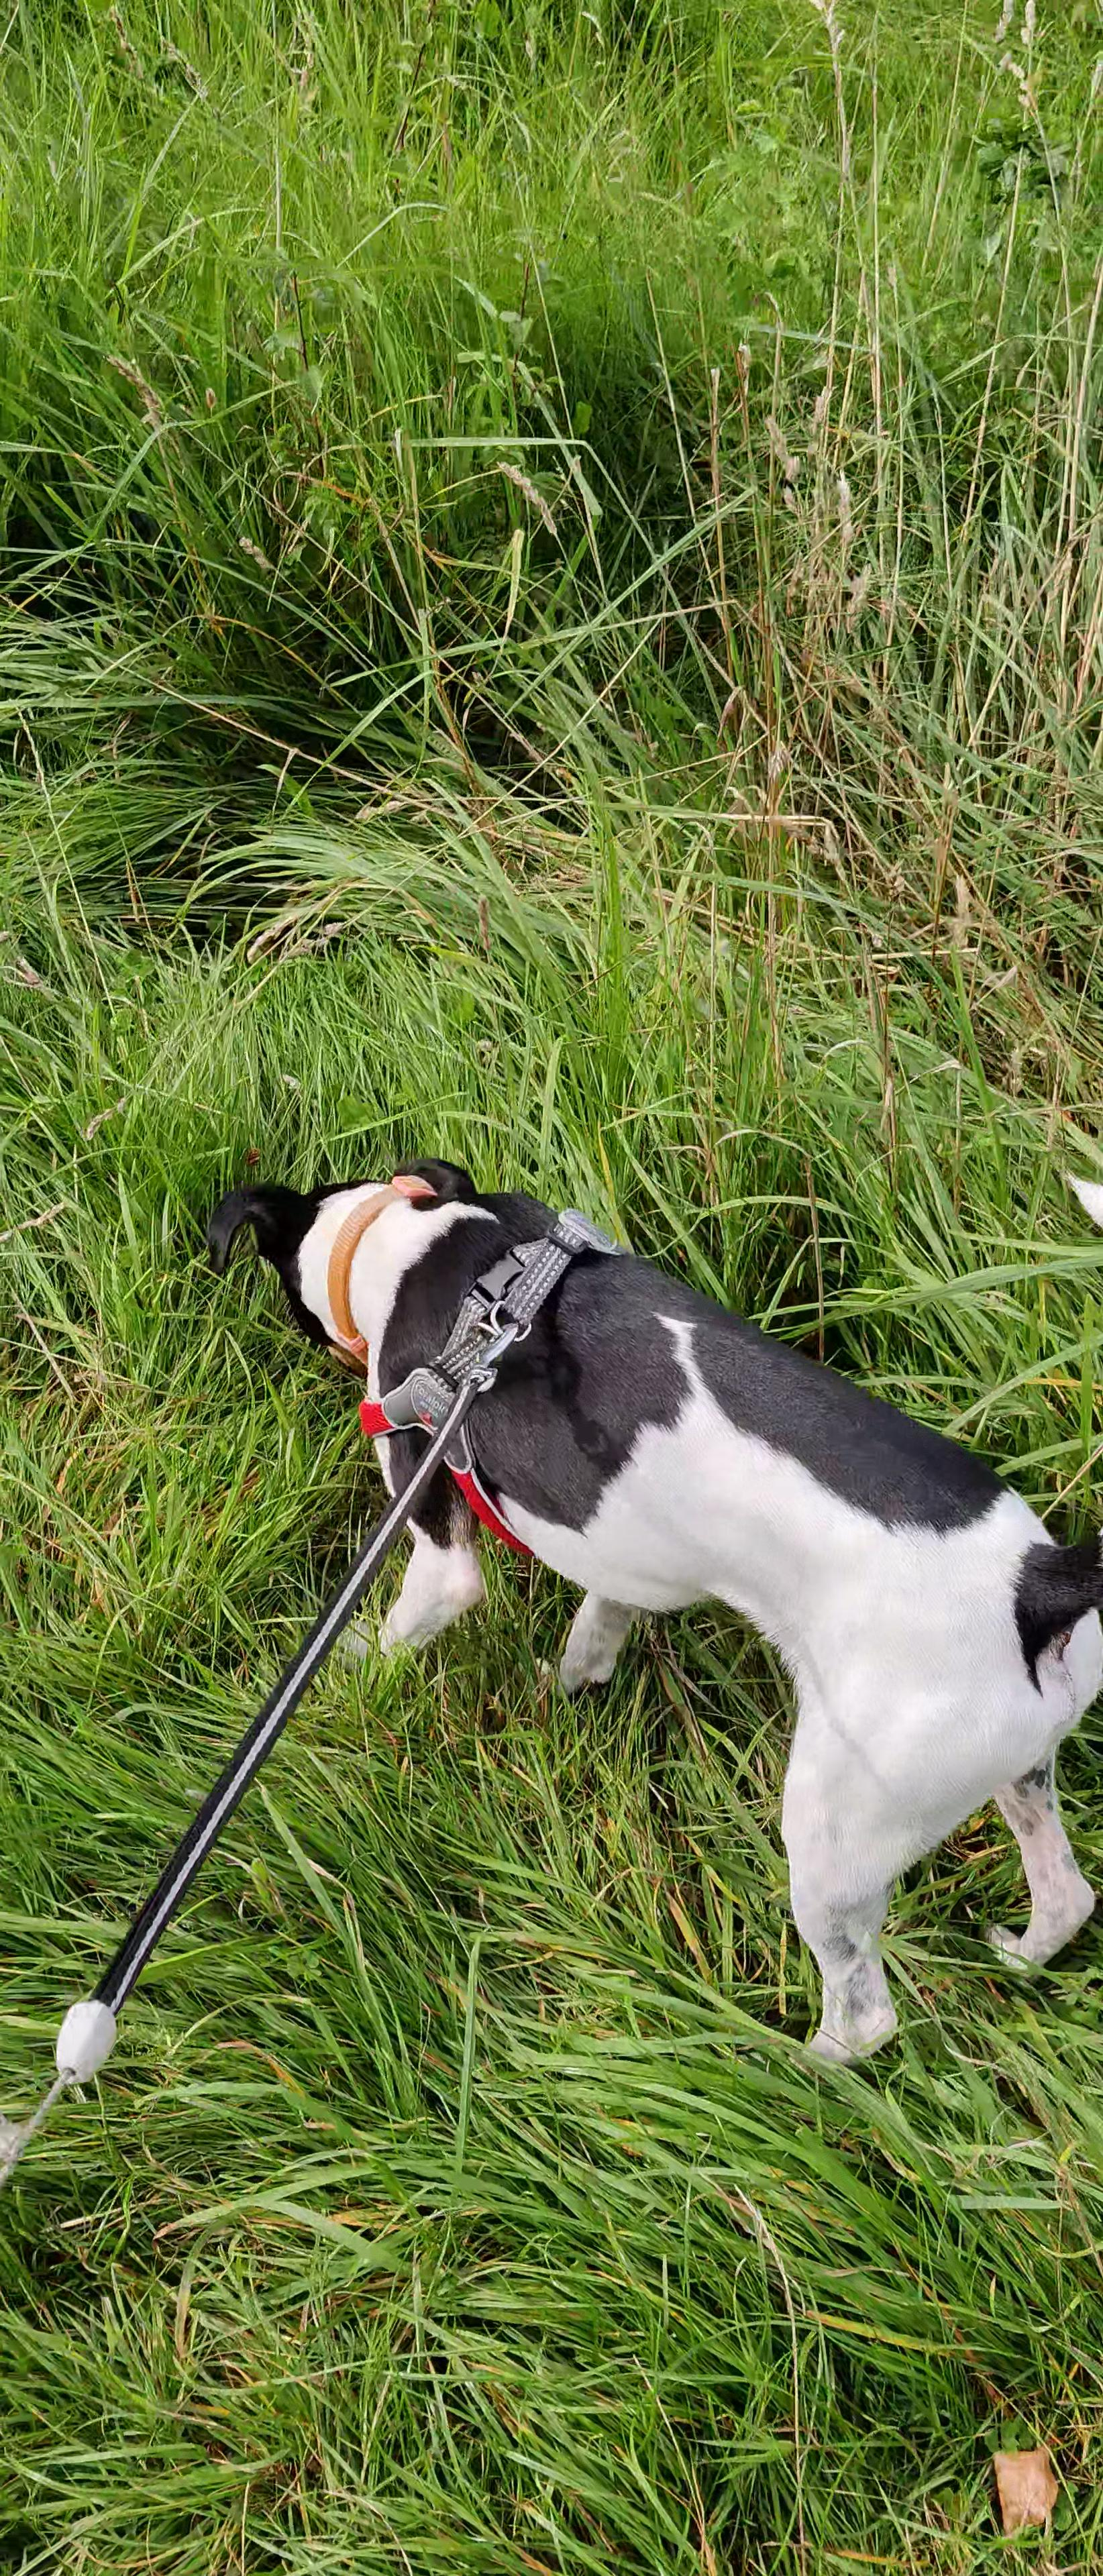Dog: (166, 1104, 1103, 2118)
